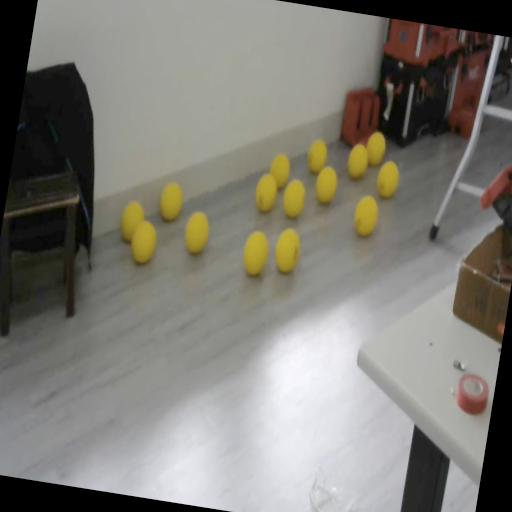FUEL: (238, 228, 272, 278), (126, 216, 160, 266), (271, 225, 303, 275), (180, 208, 212, 256), (350, 192, 381, 239), (278, 176, 308, 220), (156, 179, 185, 223), (374, 158, 402, 198), (266, 150, 293, 190), (313, 164, 340, 204), (344, 140, 370, 180), (304, 136, 330, 174), (362, 130, 388, 168)
